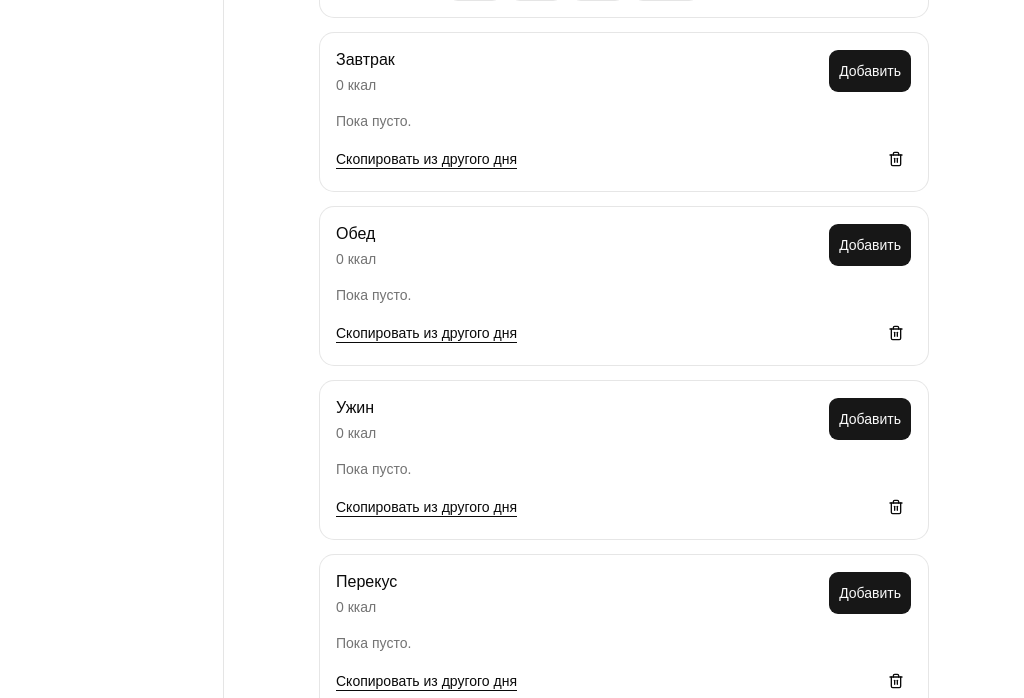
приёмы пищи › показывает отказ сервера при удалении приёма пищи
(page scrolled)
Click the button named "Удалить приём пищи: Обед".
click(896, 333)  # box [880, 317, 912, 349]
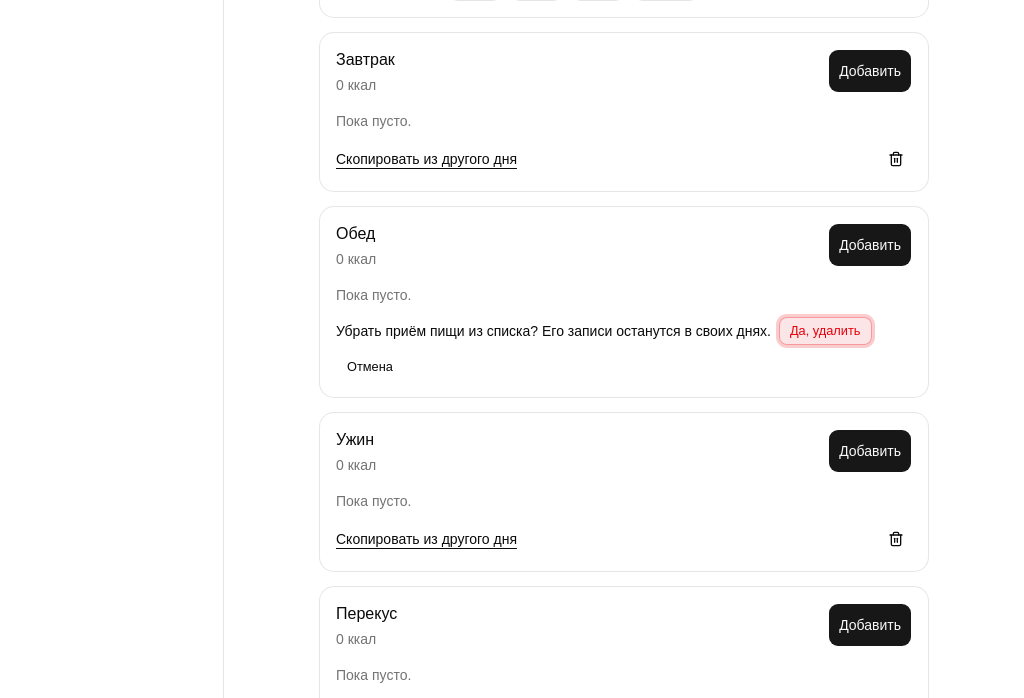
Click the button "Да, удалить".
click(825, 331)  # box [779, 317, 872, 345]
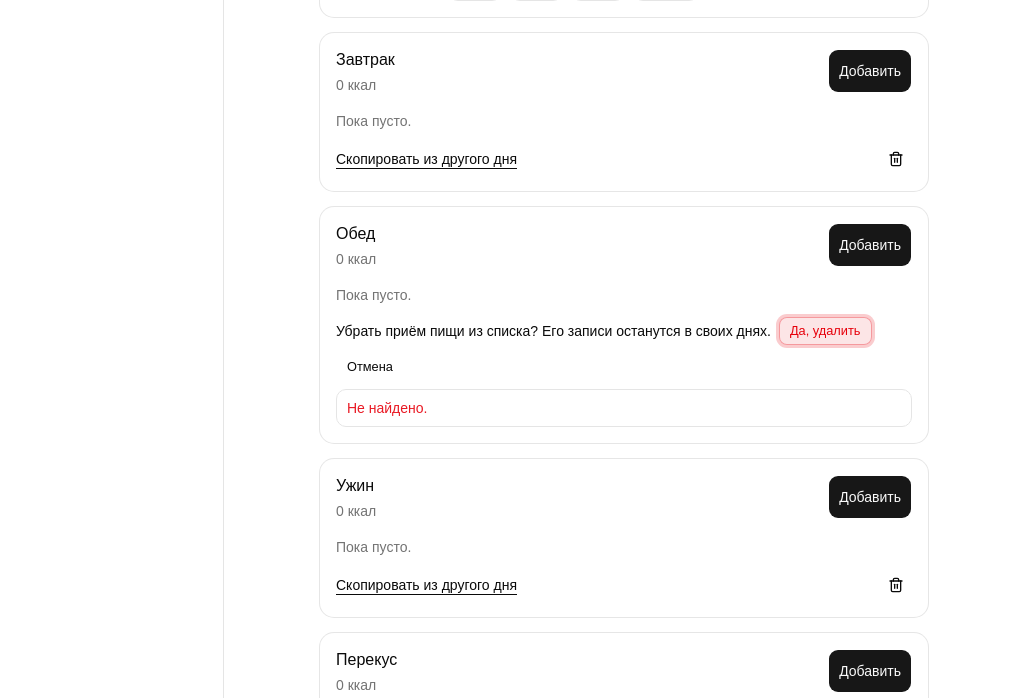
Now the message reads "Не найдено.", box [347, 400, 428, 416]
